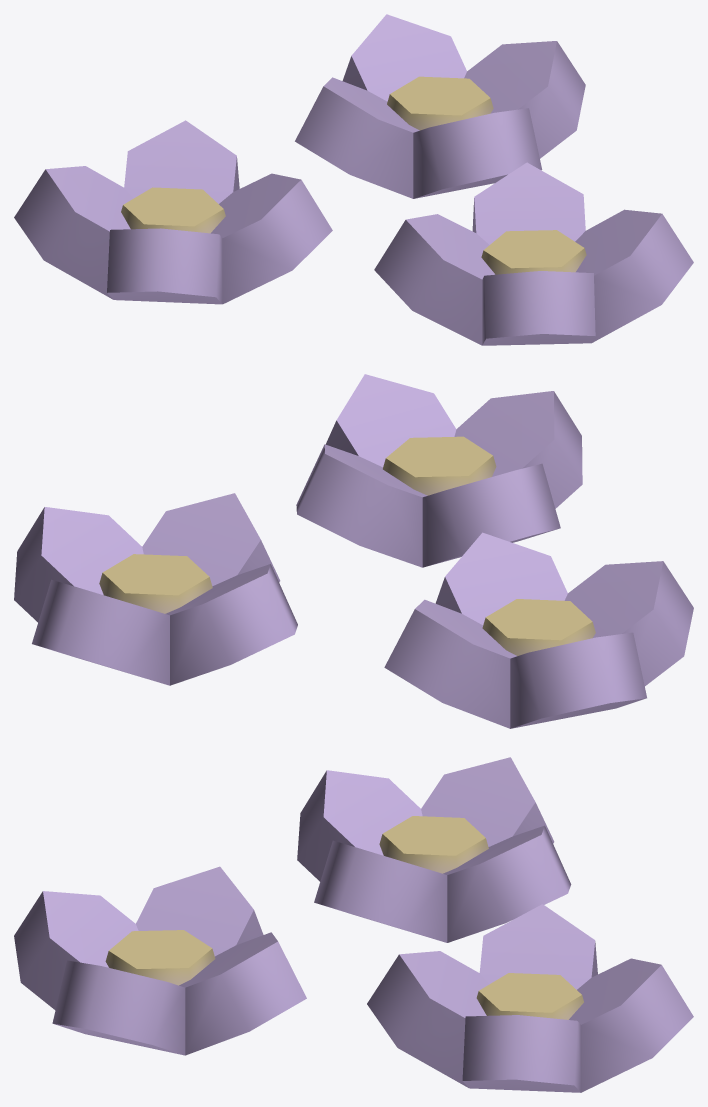
File: flowers_low_violet.gltf
3 renders of one model, top to bottom at view 1: azimuth 30°, elevation 25°; view 2: azimuth 150°, elevation 25°; view 3: azimuth 270°, elevation 25°, orthographic. The views are drawn at different scales.
Parts seen in each view (by area): view 1: flowers_low_violet; view 2: flowers_low_violet; view 3: flowers_low_violet.
Part boxes in pixels (box(x1,y1,x2,y2)): flowers_low_violet: box(14, 14, 693, 345); flowers_low_violet: box(14, 374, 693, 728); flowers_low_violet: box(14, 757, 693, 1092).
Bounding box in the file's own units: 0.7766 × 0.137 × 0.7857.
